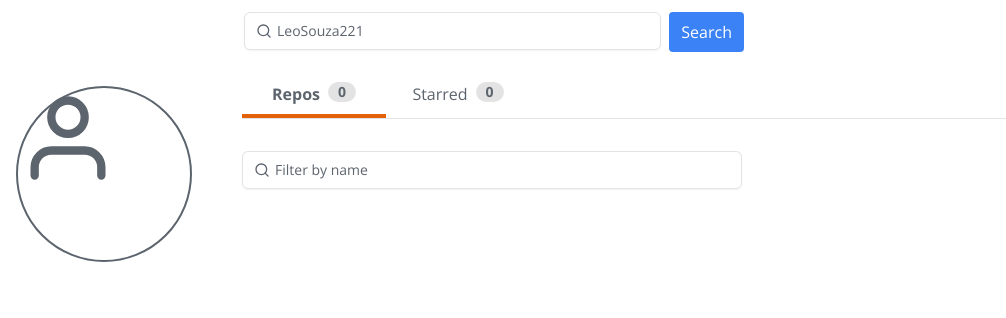
Test case: Home › when enter a new user › should get new user infos
Replace the text in the field with placeholder "Username" with "basarbk" at point(453, 31), box [244,12,661,50]
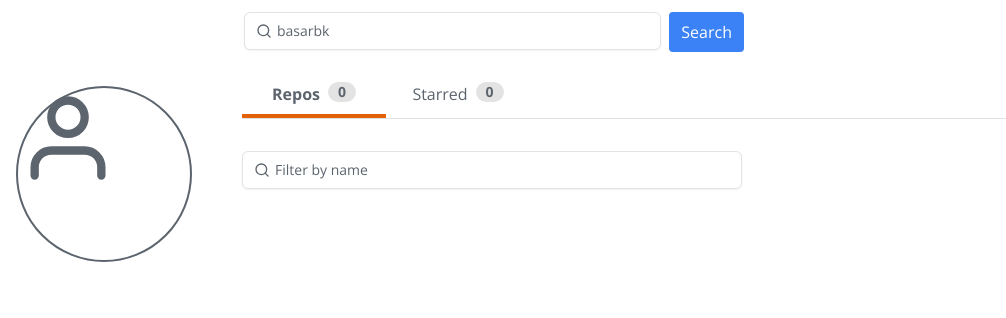
Click the button "Search" at point(707, 32), box [669,12,744,52]
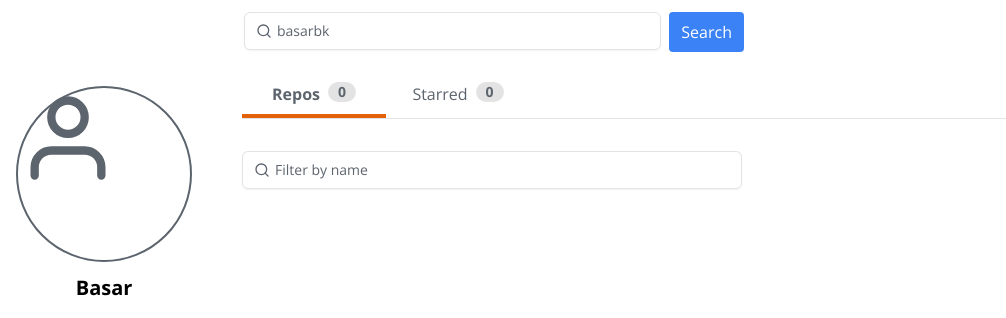
Expected: the text "Basar" is shown, [76,274,132,301]
